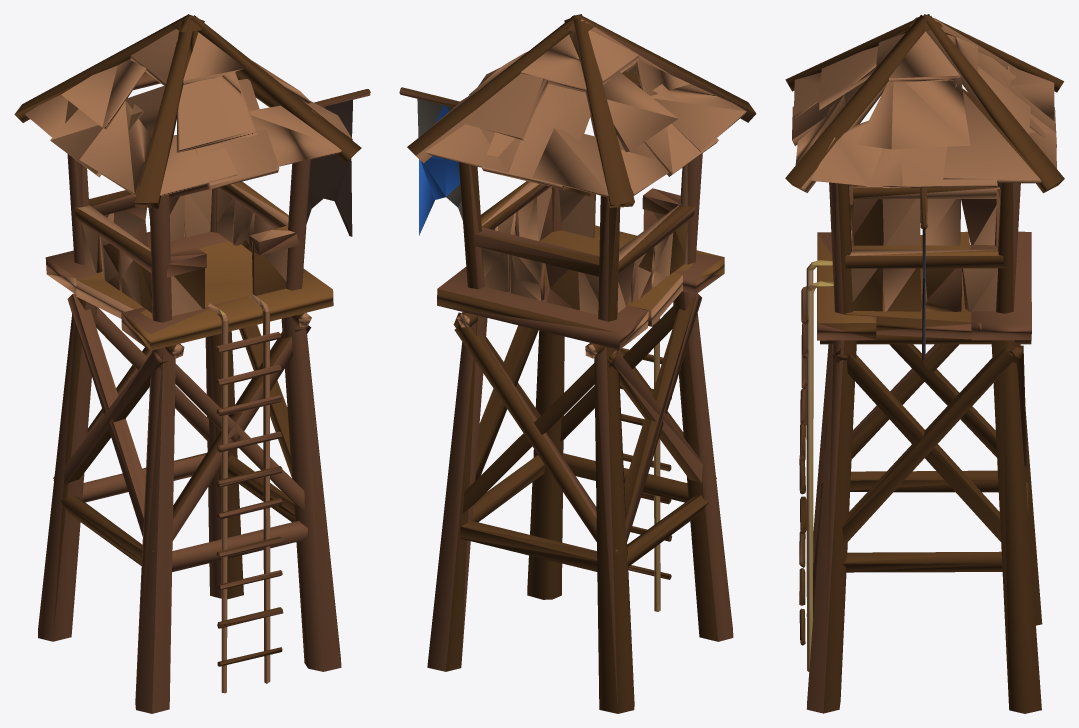
Rendered from building.watchtower.glb.
3 views of the same model, side by side, from view 1: azimuth 30°, elevation 25°; view 2: azimuth 150°, elevation 25°; view 3: azimuth 270°, elevation 25° (orthographic). The views are drawn at different scales.
Visible parts, largest first — view 1: asset; view 2: asset; view 3: asset.
Boxes of the visible parts, x1,y1,x2,y2 form: asset: (14,14,370,713); asset: (399,14,756,713); asset: (785,14,1064,713).
Bounding box in the file's own units: 1.2 × 2.46 × 0.9608.
